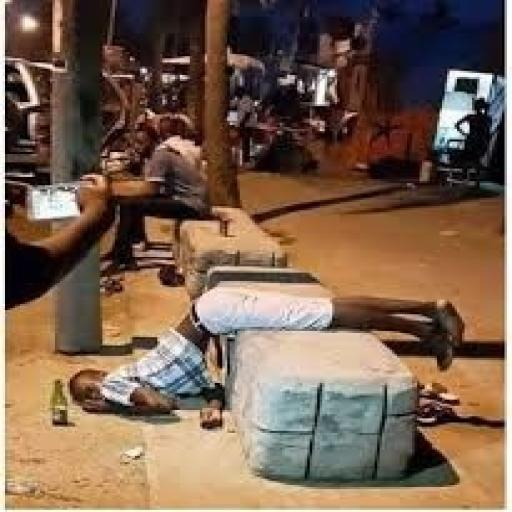sleeping: (67, 244, 467, 426)
